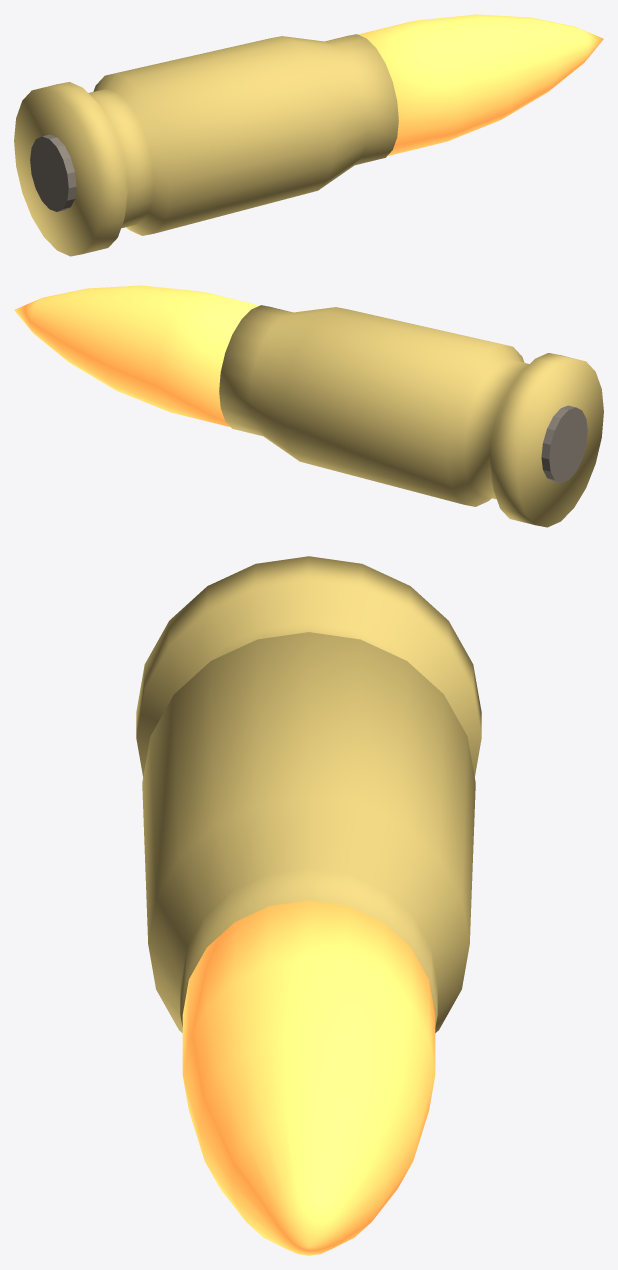
Rendered from bullet.glb.
3 renders of one model, top to bottom at view 1: azimuth 30°, elevation 25°; view 2: azimuth 150°, elevation 25°; view 3: azimuth 270°, elevation 25°, orthographic. The views are drawn at different scales.
Visible parts, largest first — view 1: BulletCasing, BulletTip, Cylinder; view 2: BulletCasing, BulletTip, Cylinder; view 3: BulletCasing, BulletTip.
Boxes of the visible parts, <box> form: BulletCasing: <box>14,34,398,256</box>; BulletTip: <box>358,14,603,155</box>; Cylinder: <box>30,134,76,211</box>; BulletCasing: <box>219,305,603,527</box>; BulletTip: <box>14,285,259,426</box>; Cylinder: <box>541,405,587,482</box>; BulletCasing: <box>136,556,481,1032</box>; BulletTip: <box>182,900,435,1255</box>.
Bounding box in the file's own units: 1.07 × 0.29 × 0.29.
